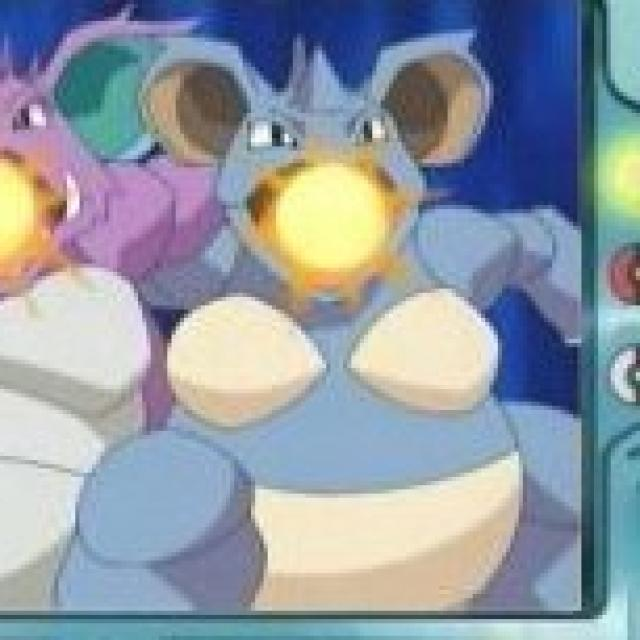Nidoqueen: (121, 37, 526, 612)
